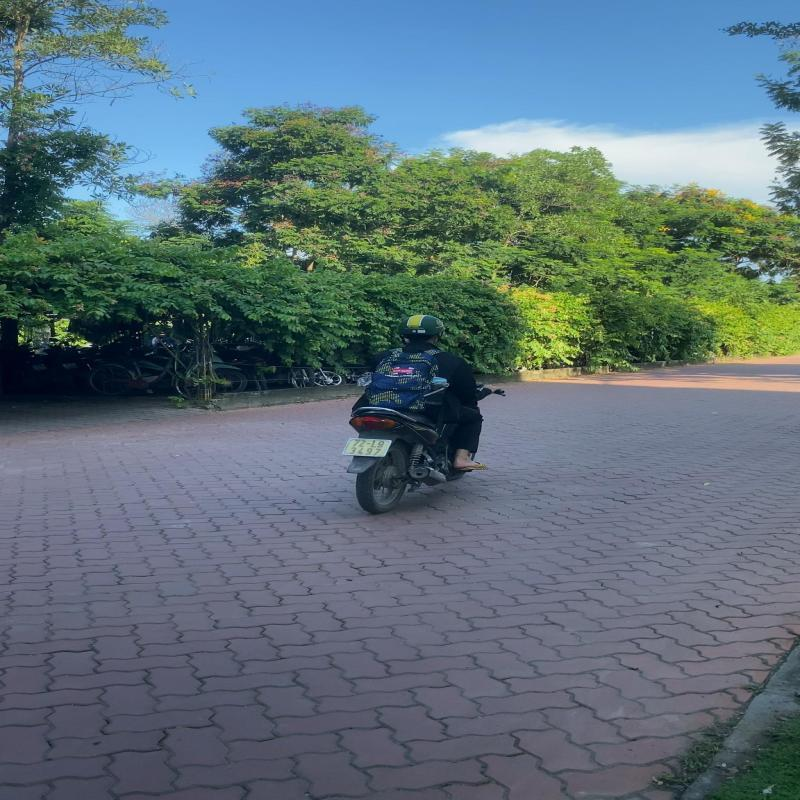helmet: (397, 315, 446, 339)
licenseplate: (342, 437, 392, 458)
motorcyclist: (343, 314, 496, 514)
